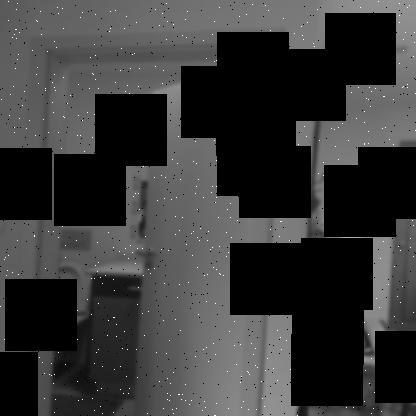Porte: (9, 26, 285, 415)
